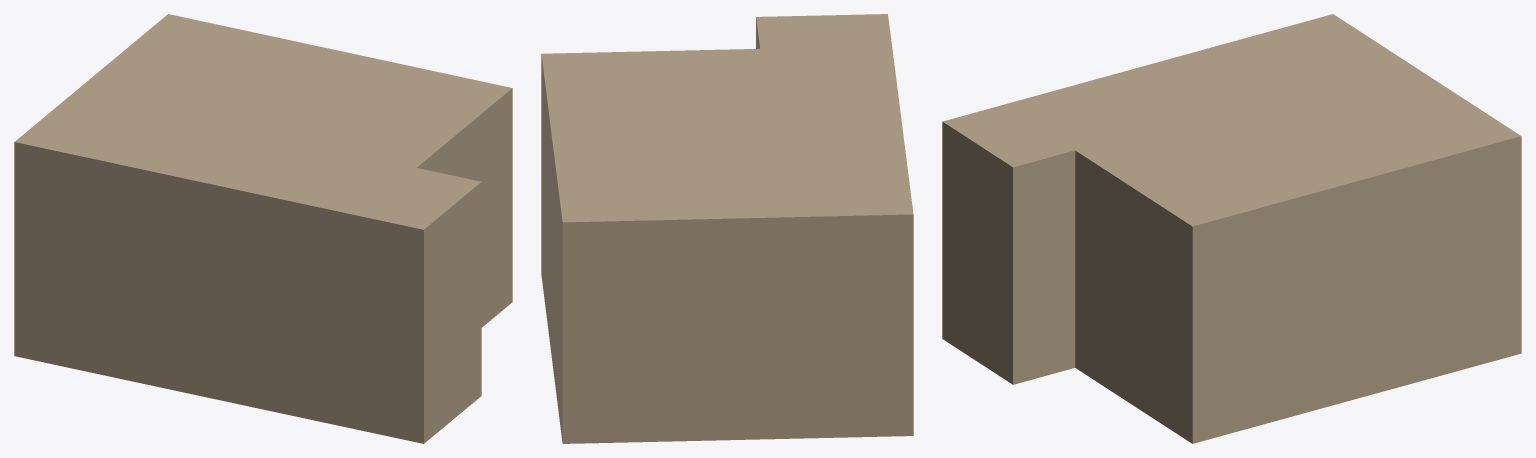
File: bld_55879908.dae
3 renders of one model, left to right at view 1: azimuth 30°, elevation 25°; view 2: azimuth 150°, elevation 25°; view 3: azimuth 270°, elevation 25°, orthographic. The views are drawn at different scales.
Visible parts, largest first — view 1: Nationwide; view 2: Nationwide; view 3: Nationwide.
Boxes of the visible parts, bbox=[...] form: Nationwide: bbox=[14, 14, 512, 443]; Nationwide: bbox=[541, 14, 913, 443]; Nationwide: bbox=[942, 14, 1521, 443].
Size of the model in its own units: 16.77 by 19.3 by 8.
